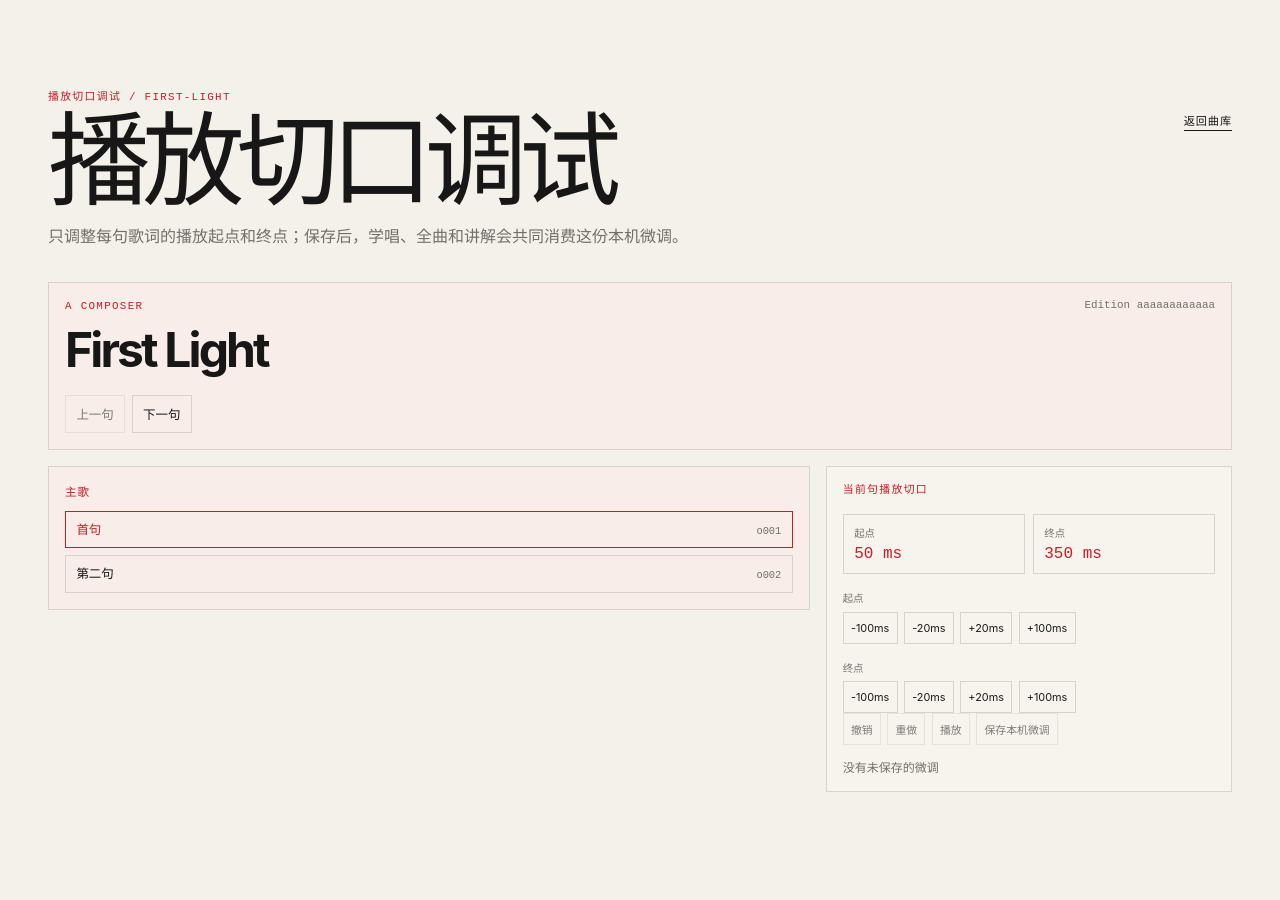
TimingDebuggerPage › detects a stored-value change made after the editing session opened
Check: the heading "播放切口调试" is shown, box 48,113 -> 688,207
Click the 1st button "+20ms" at [986, 628], box 960,612 -> 1012,644
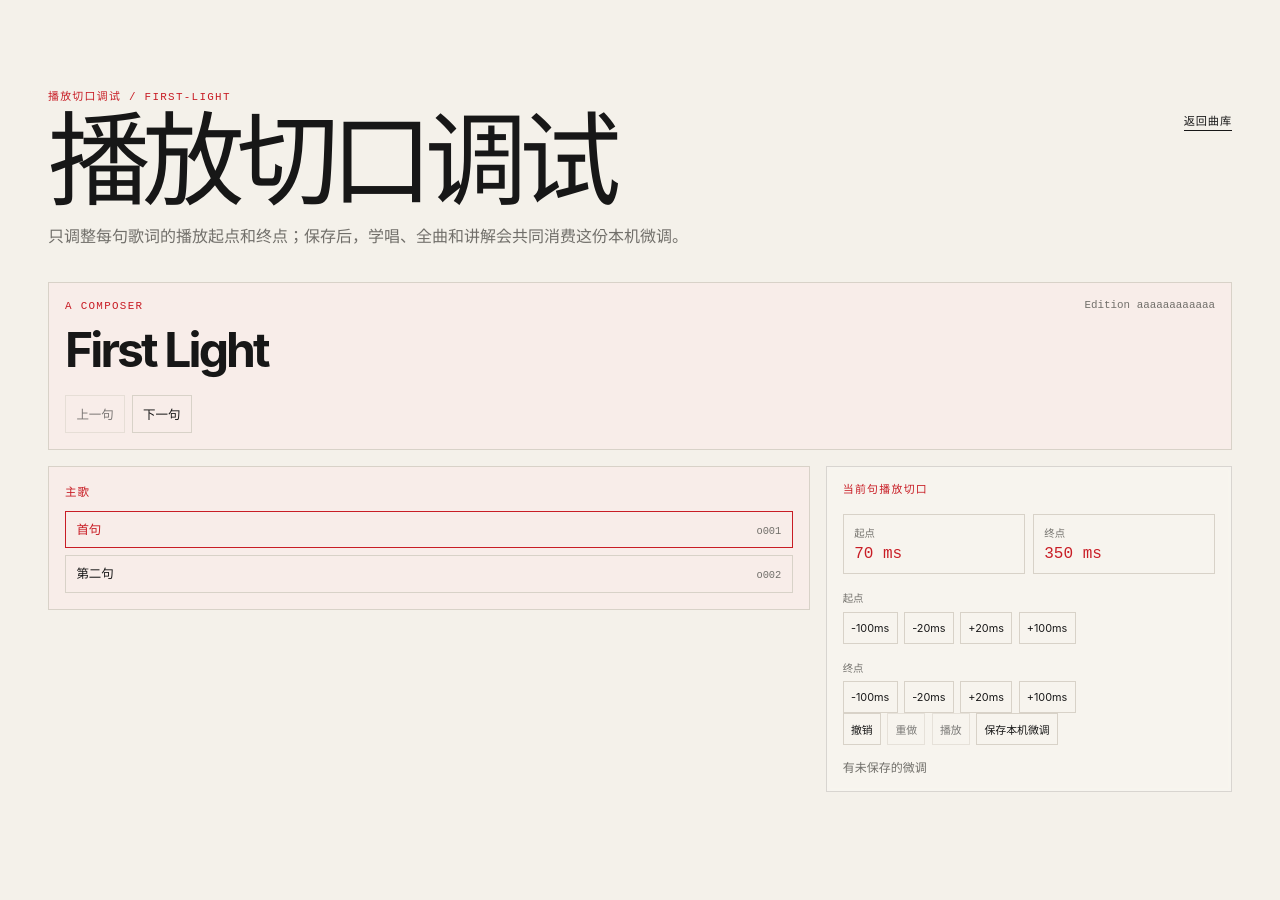
Click the button "保存本机微调" at [1017, 729], box 976,713 -> 1058,745
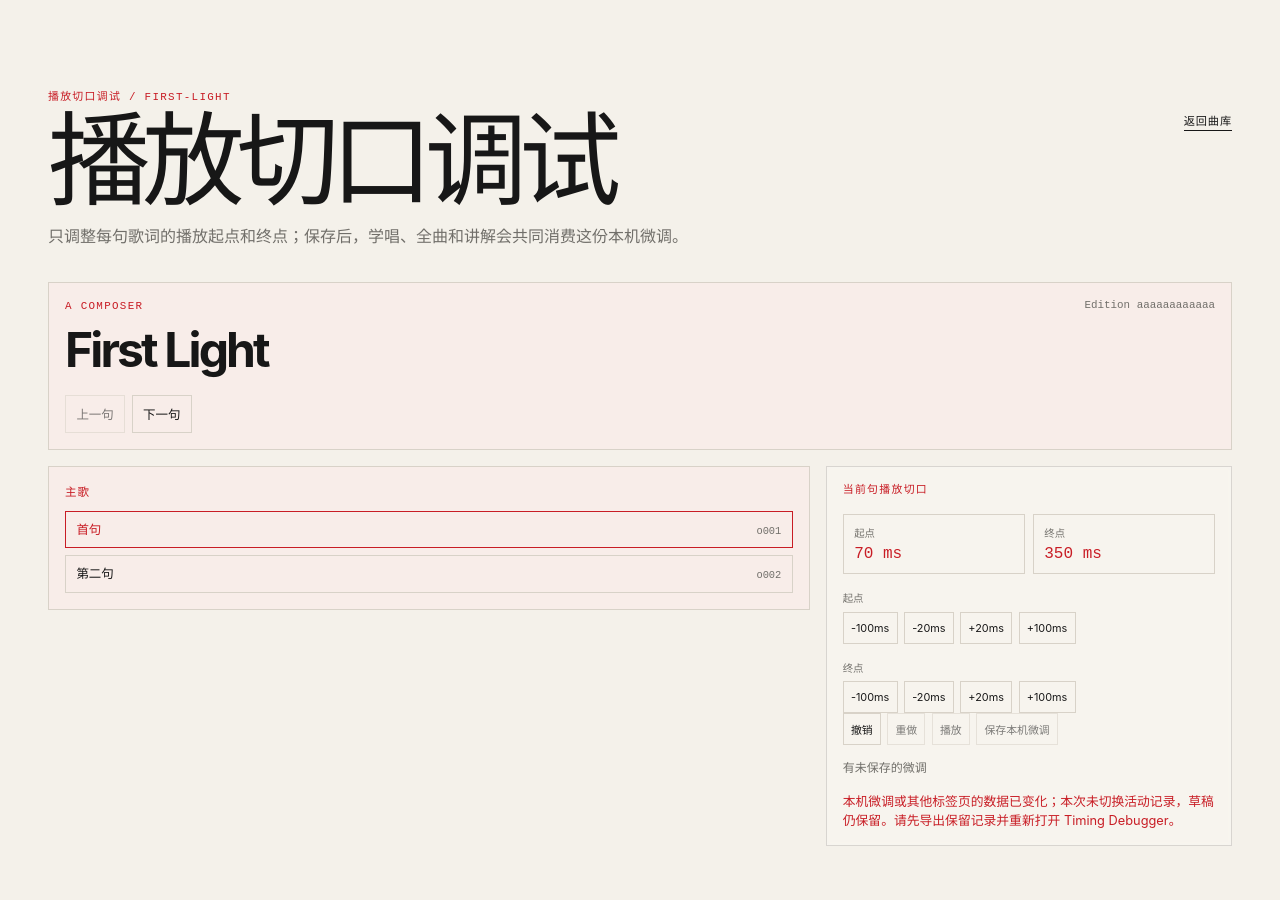
Check: the text "70 ms" is shown, box 854,545 -> 902,563
Check: the text "本机微调或其他标签页的数据已变化；本次未切换活动记录，草稿仍保留。请先导出保留记录并重新打开 Timing Debugger。" is shown, box 843,791 -> 1215,829
Check: the button "保存本机微调" is disabled, box 976,713 -> 1058,745
